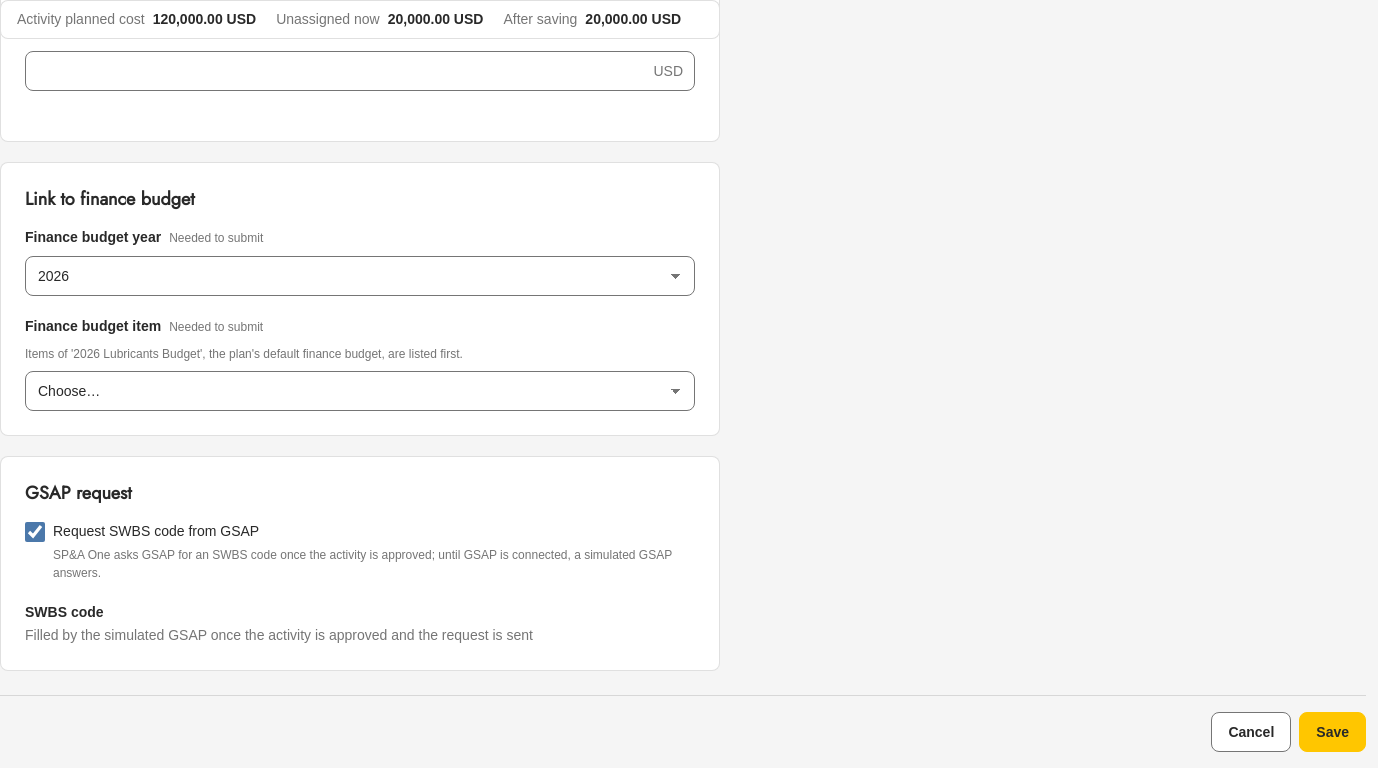
it: LineItemEditPage (US4, FR-027) › saves coding changes of an approved activity without a dialog (scenario 2, FR-032)
(page scrolled)
Select "Europe – Digital · 2026 Lubricants Budget · LUB-EU-DIG" in the dropdown labelled "Finance budget item" at (360, 391), box [25,371,695,411]
(page scrolled)
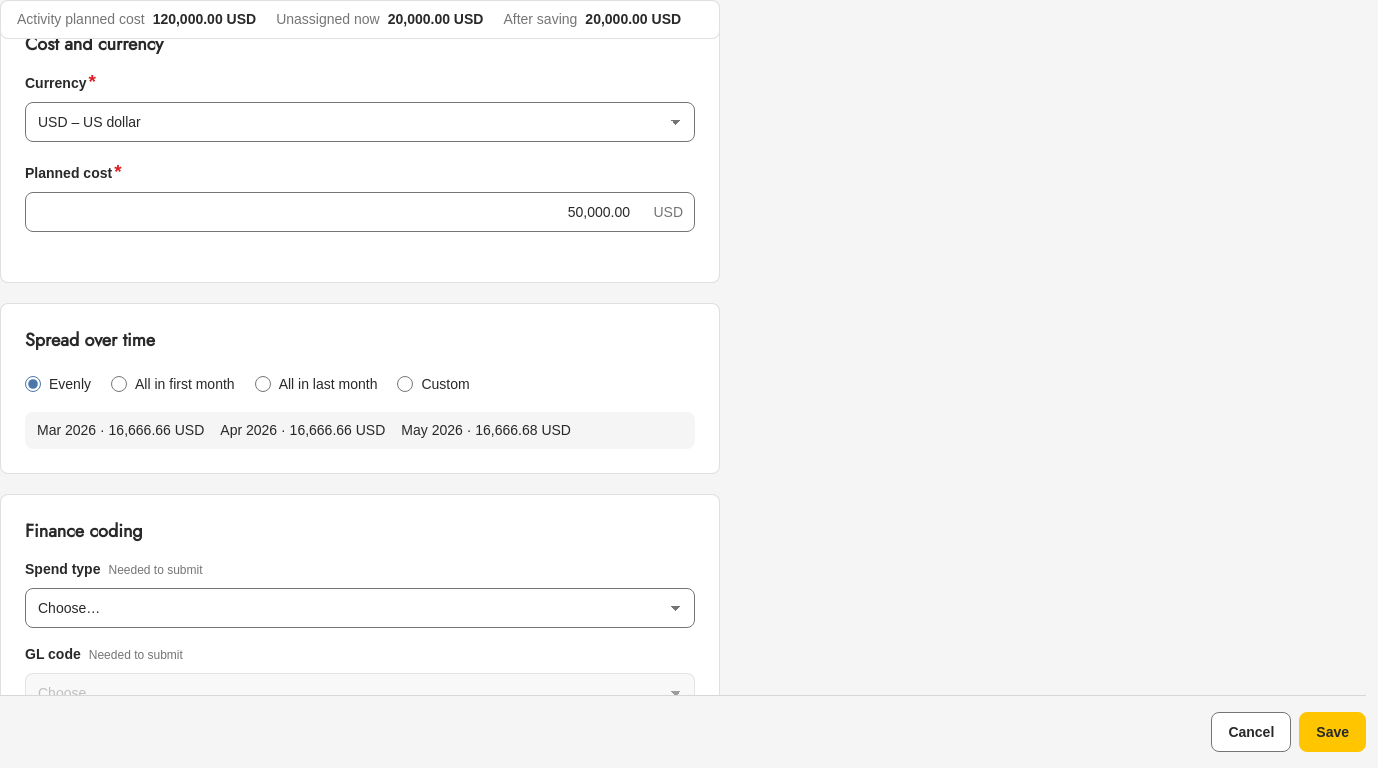
Click the radio button labelled "All in last month" at (263, 384), box [255,376,271,392]
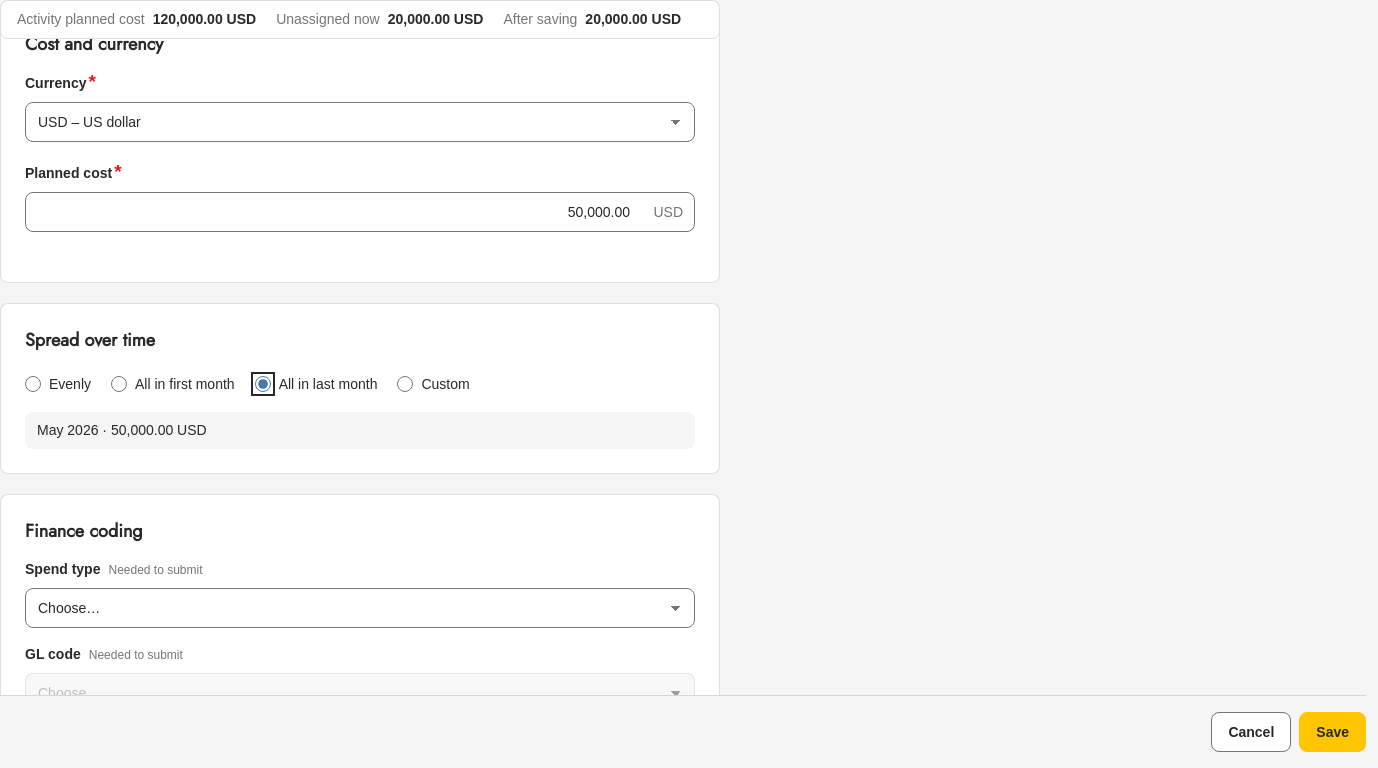
Click the button "Save" at (1333, 732), box [1299,712,1366,752]
(page scrolled)
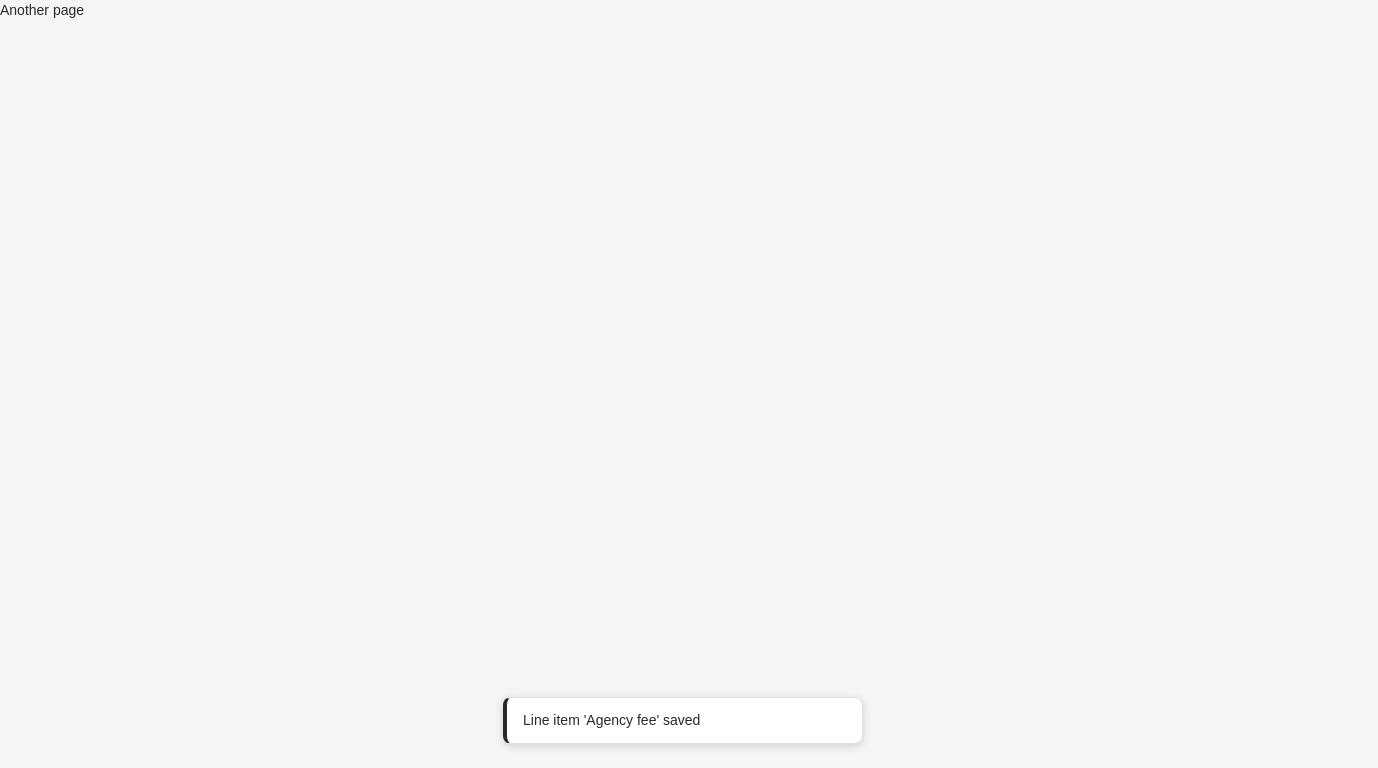
expect the text "Line item 'Agency fee' saved" is shown: met, box [523,712,700,728]
